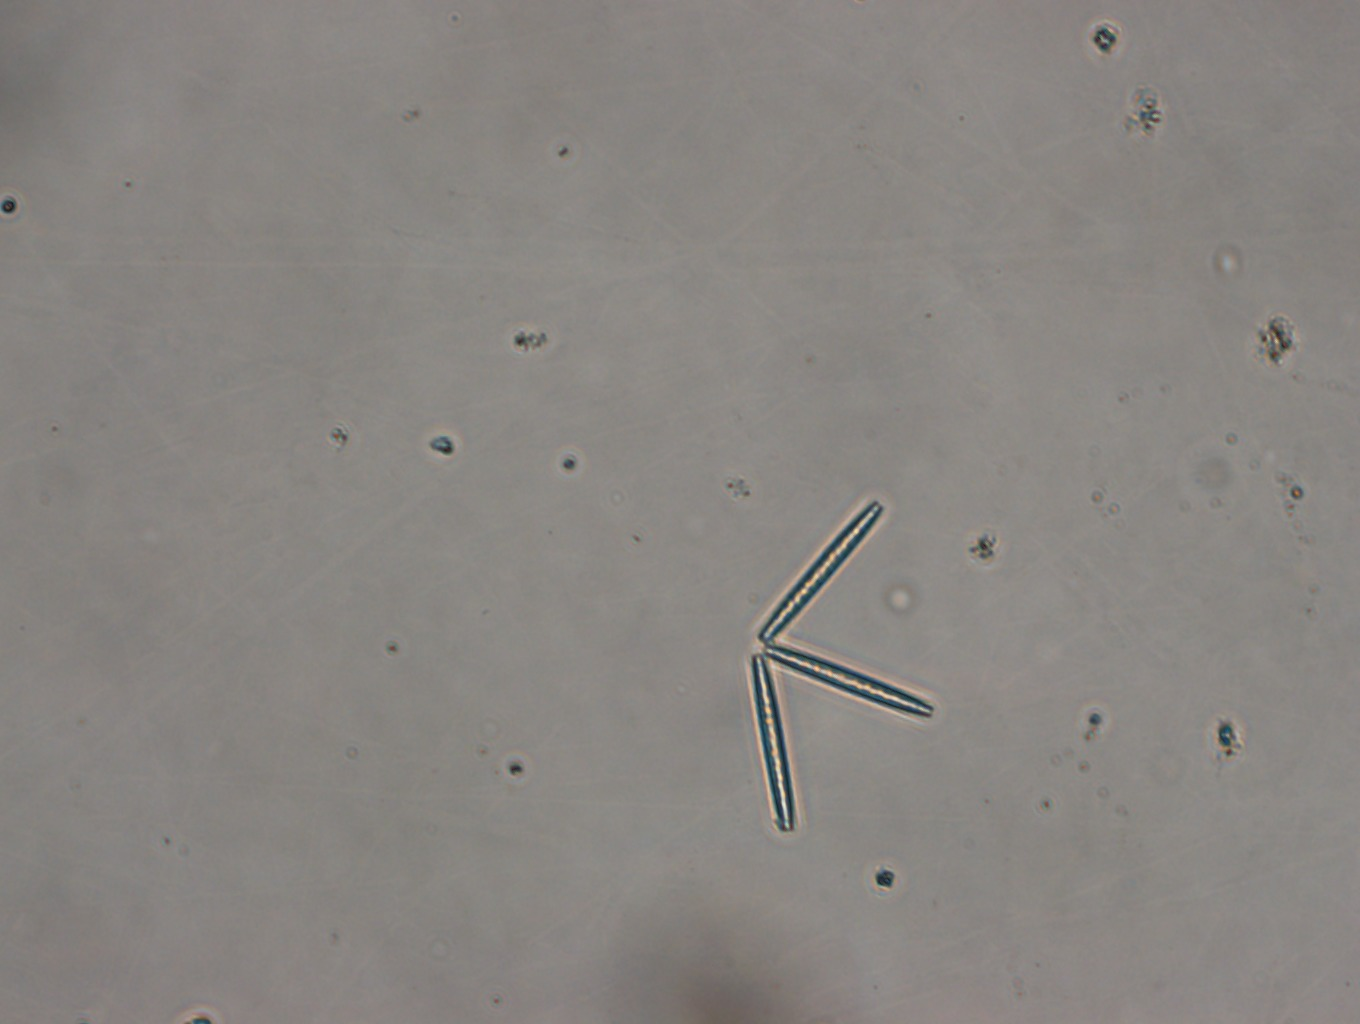thalassionema nitzschioides: (741, 495, 936, 841)
